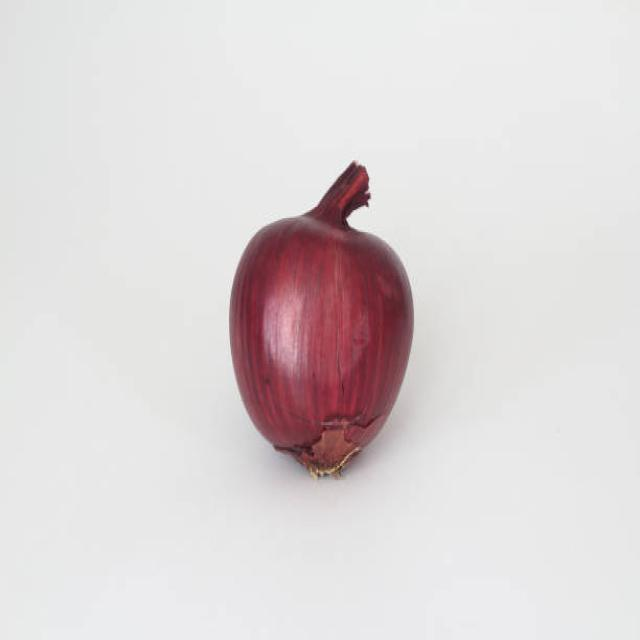onion: (227, 203, 419, 483)
